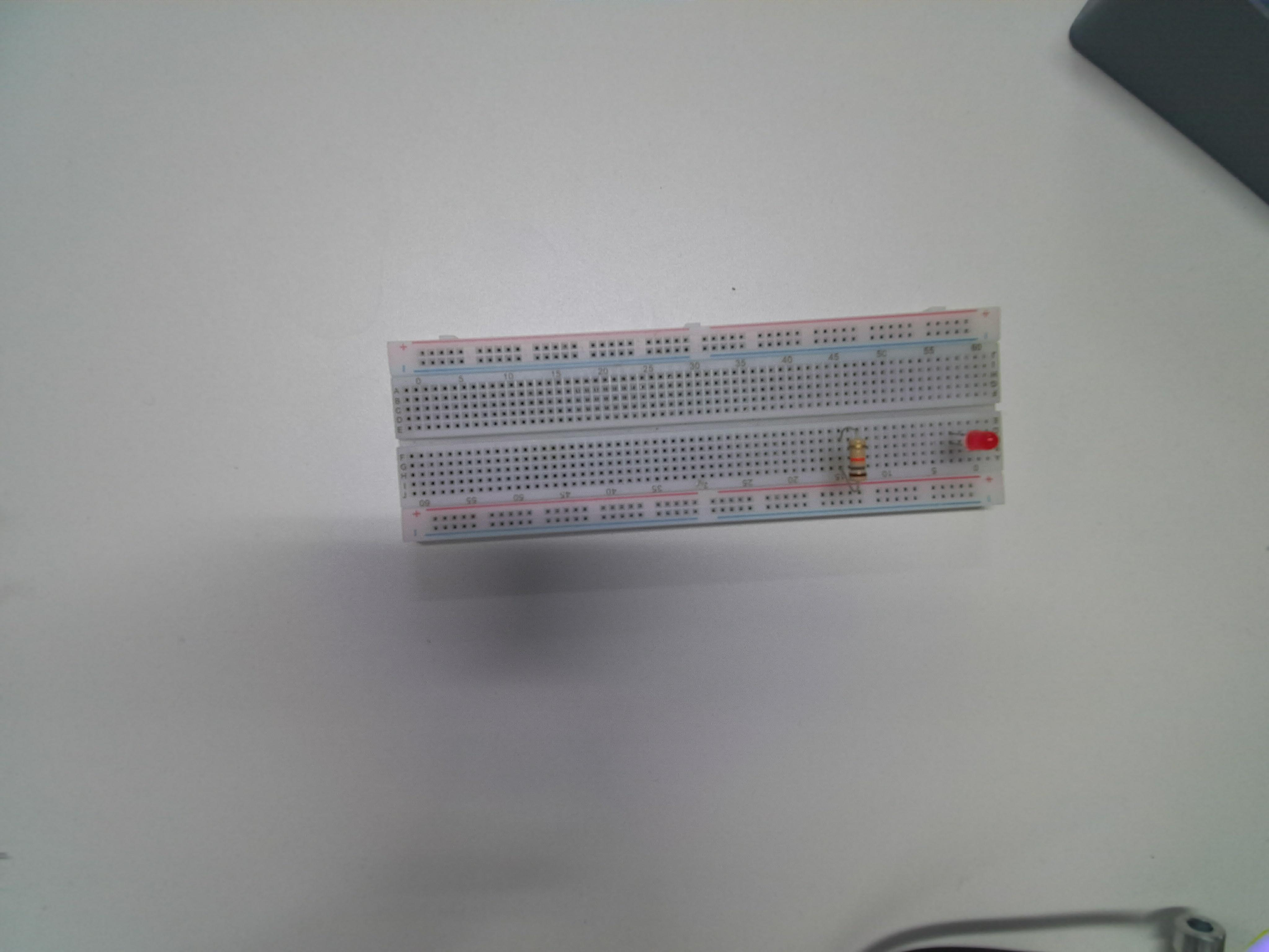base: (385, 308, 1008, 548)
red-led: (964, 429, 1000, 452)
resistor-big: (840, 431, 876, 491)
